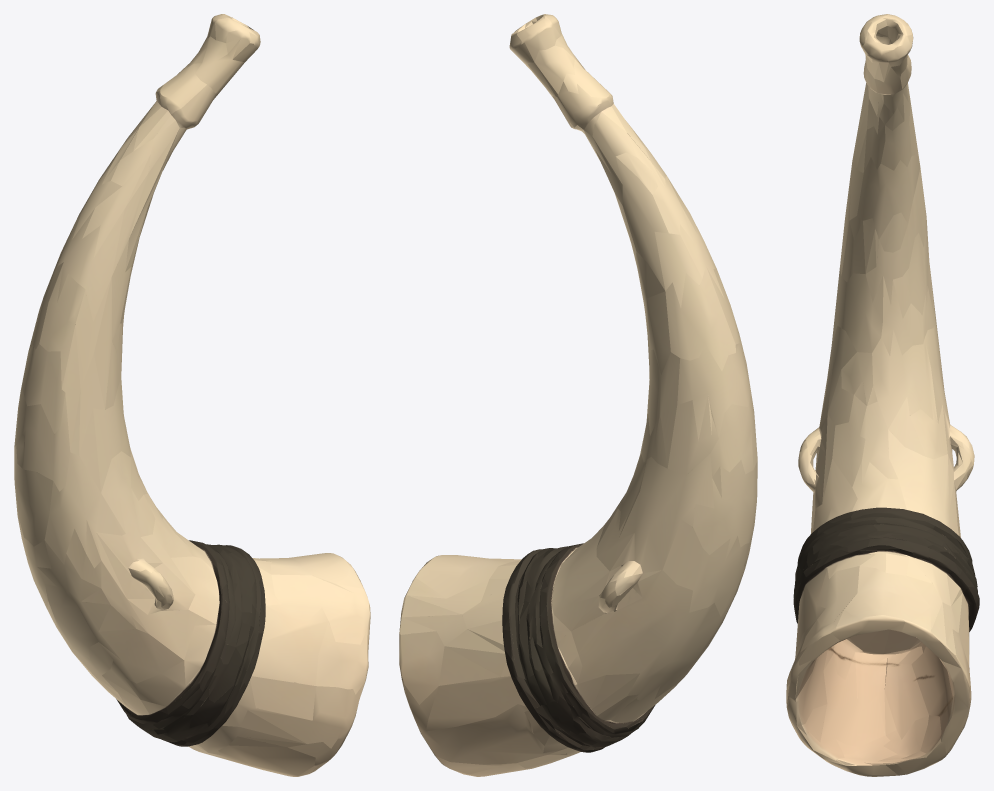
The model's file is fennal-corne.glb.
3 views of the same model, side by side, from view 1: azimuth 30°, elevation 25°; view 2: azimuth 150°, elevation 25°; view 3: azimuth 270°, elevation 25° (orthographic). The views are drawn at different scales.
Visible parts, largest first — view 1: geometry_0; view 2: geometry_0; view 3: geometry_0.
Boxes of the visible parts, x1,y1,x2,y2 form: geometry_0: (14,14,370,776); geometry_0: (399,14,757,776); geometry_0: (786,14,979,776).
Bounding box in the file's own units: 0.8386 × 1.9 × 0.4538.
1 material, 1 textured.
